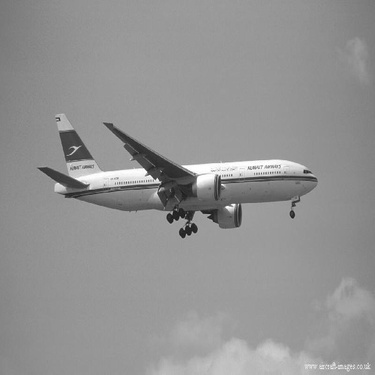airplane: (39, 104, 324, 243)
